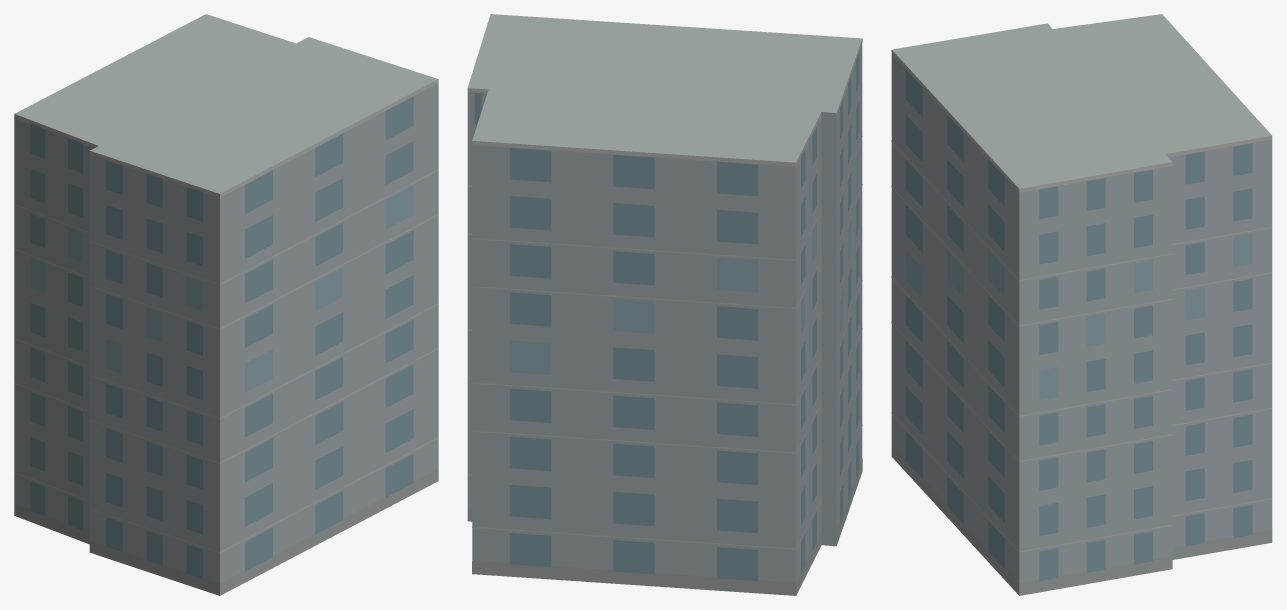
The model's file is survey-upis-32822754.glb.
The picture shows the model from 3 angles, left to right: view 1: azimuth 30°, elevation 25°; view 2: azimuth 150°, elevation 25°; view 3: azimuth 270°, elevation 25°; orthographic projection. The views are drawn at different scales.
Parts seen in each view (by area): view 1: survey-upis-32822754.tmp; view 2: survey-upis-32822754.tmp; view 3: survey-upis-32822754.tmp.
Part boxes in pixels (x1=…): survey-upis-32822754.tmp: x1=14, y1=14, x2=438, y2=595; survey-upis-32822754.tmp: x1=467, y1=14, x2=862, y2=595; survey-upis-32822754.tmp: x1=891, y1=14, x2=1272, y2=595.
Bounding box in the file's own units: 23.33 × 25.3 × 21.46.
